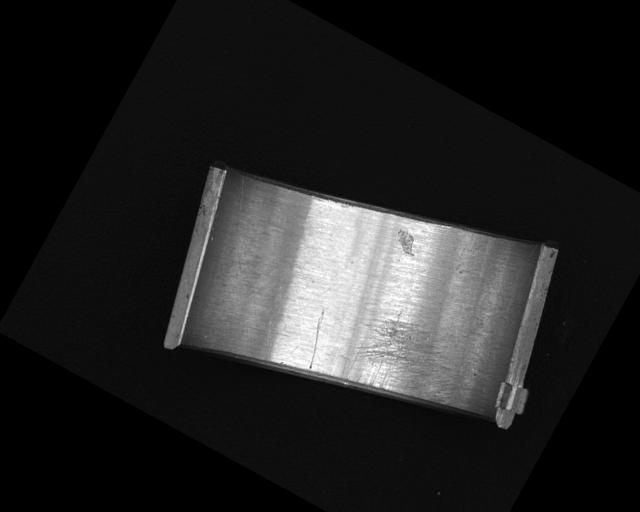bruise: (390, 227, 422, 257)
nick: (202, 175, 282, 272), (292, 308, 339, 370)
scratch: (334, 297, 476, 431)
